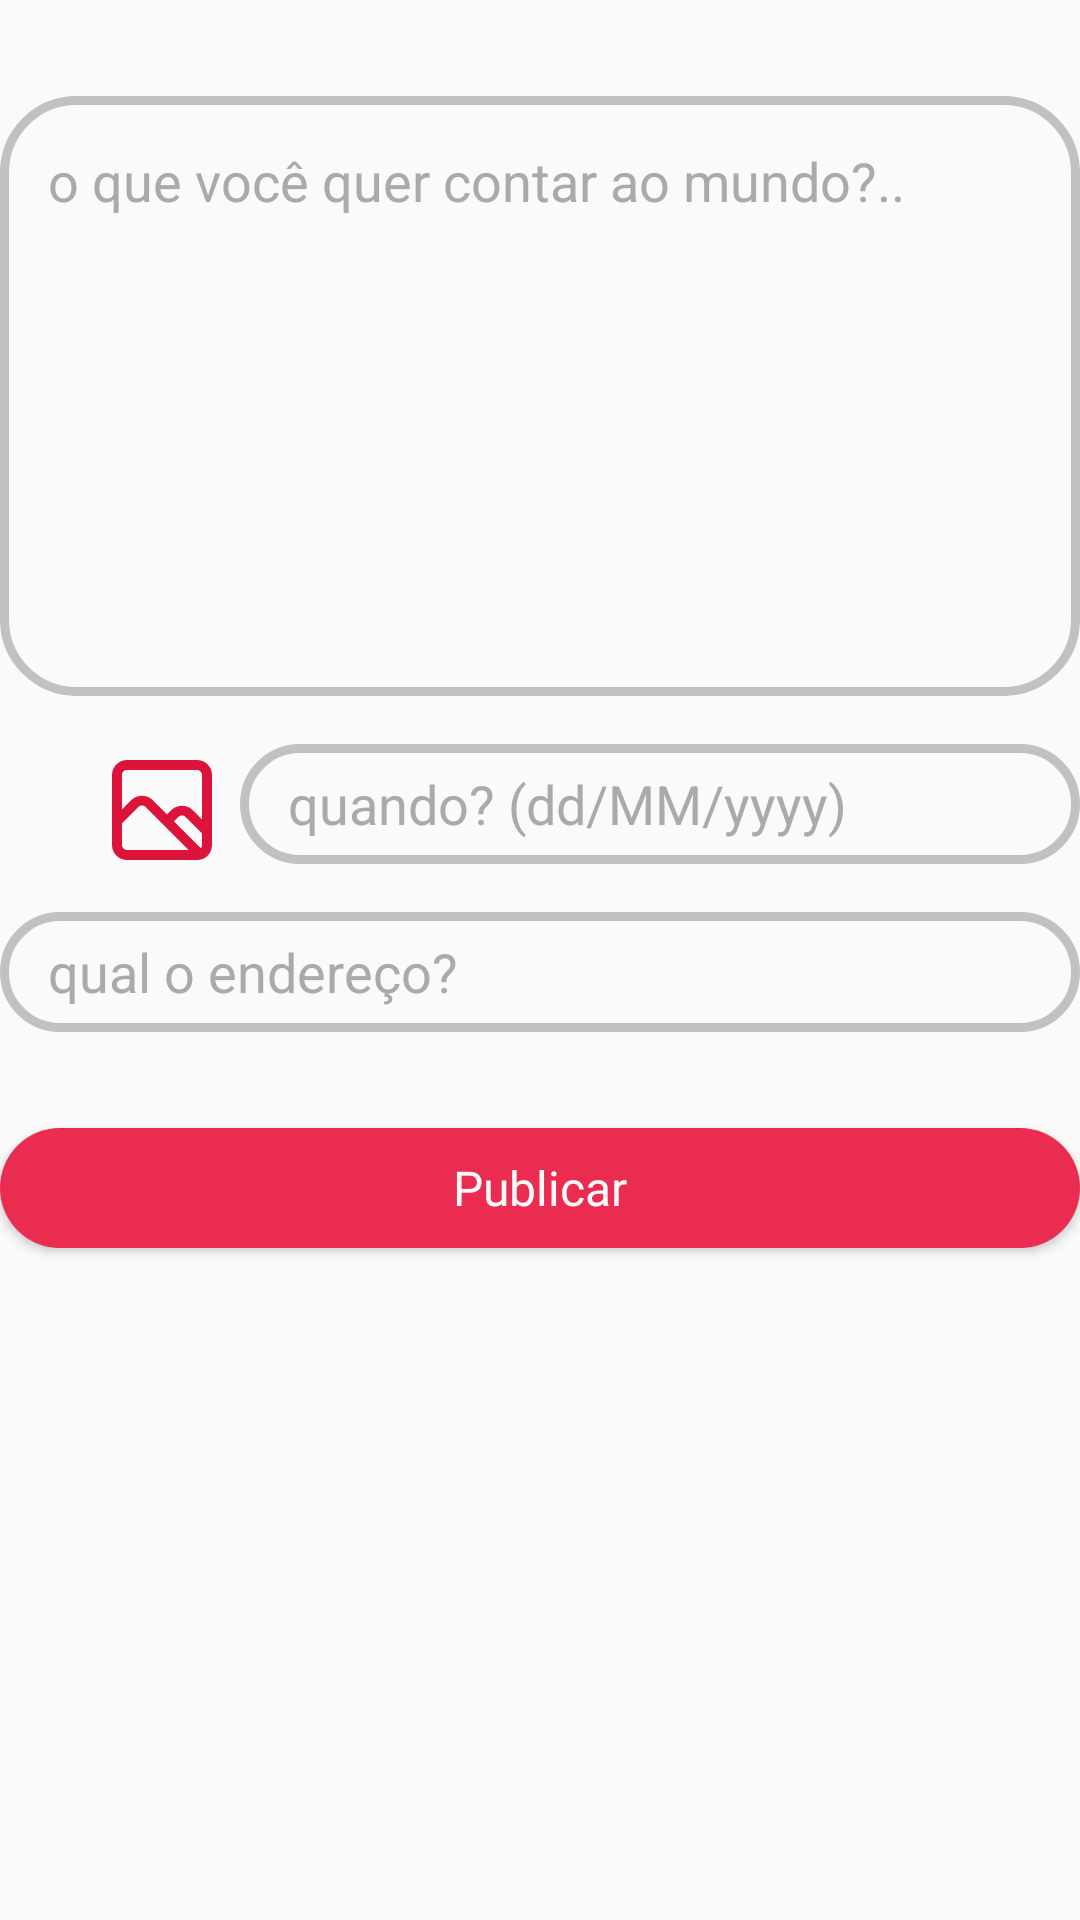

Icon bounding boxes for this 1080 x 1920 phone screenshot, format BBox(x1, y1, x2, y2):
igalery: BBox(112, 760, 212, 860)
